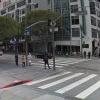Crosswalk: (26, 62, 96, 100)
